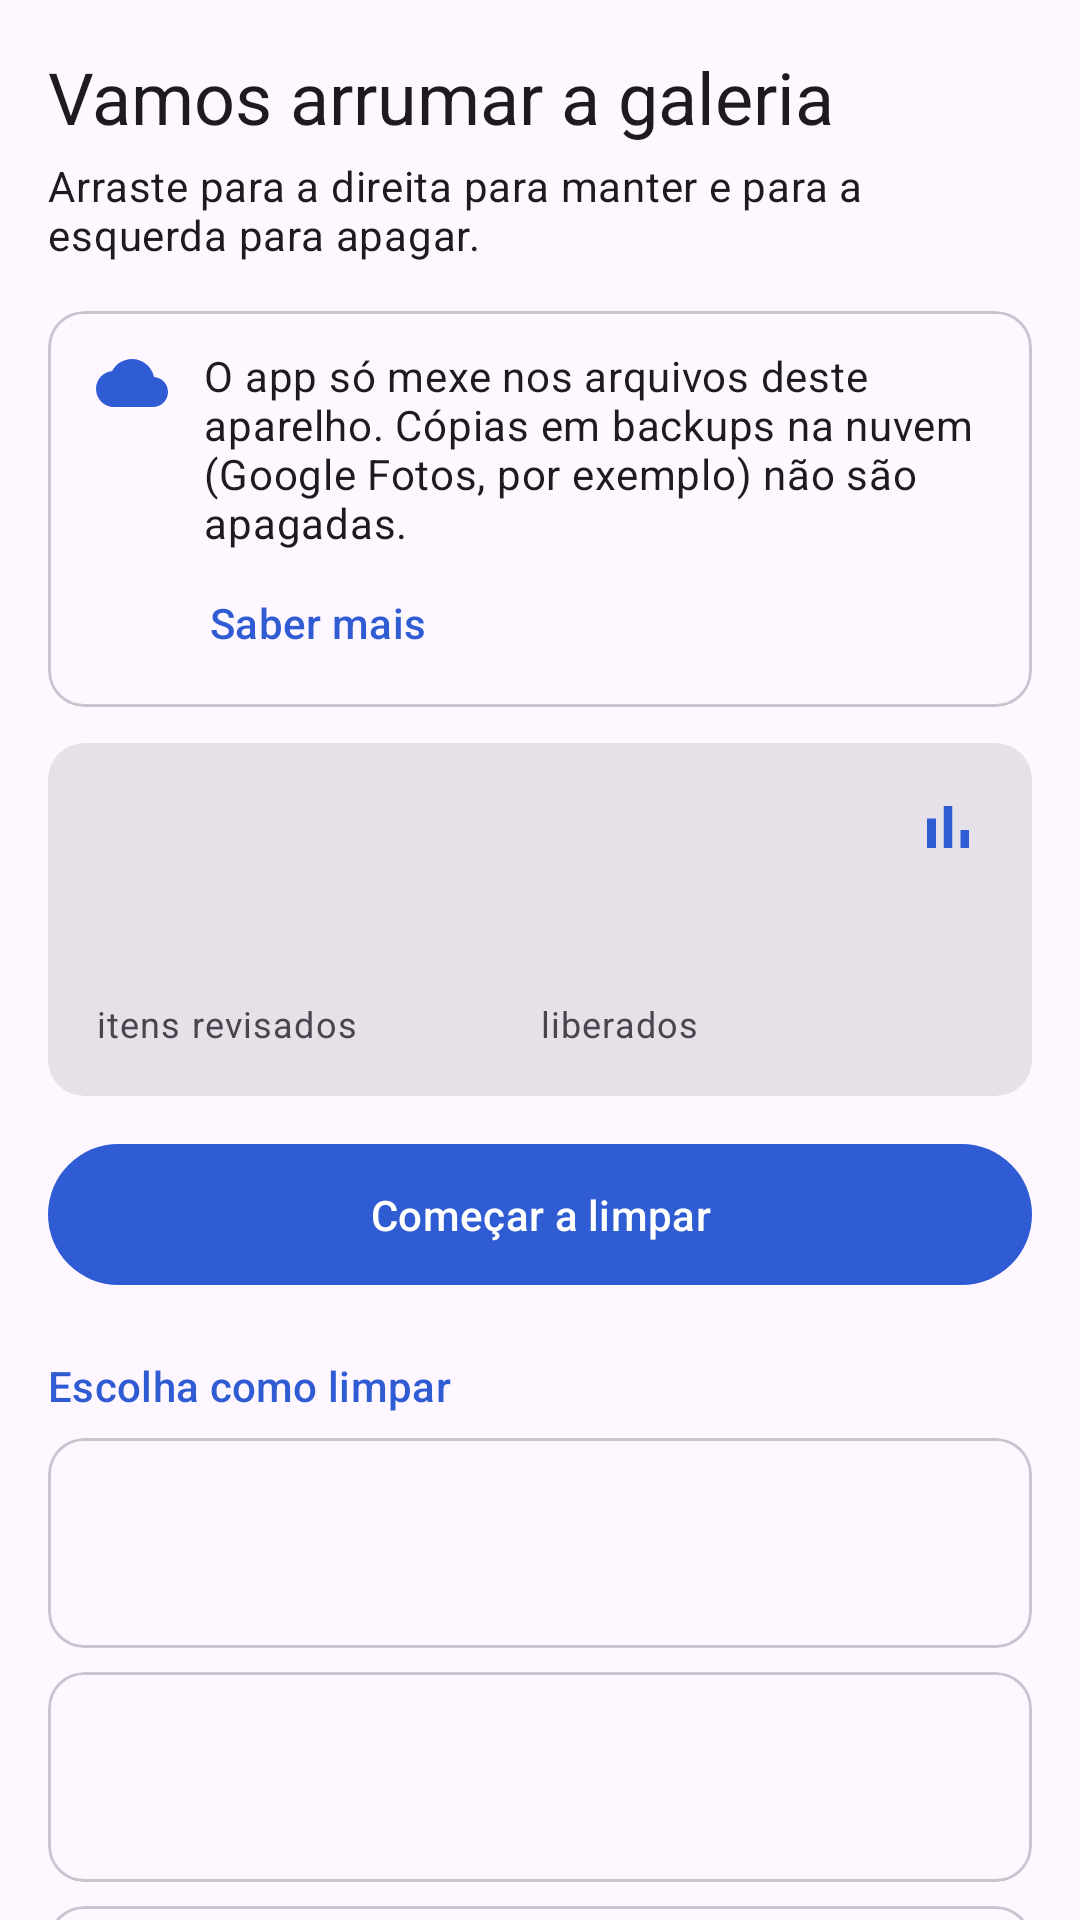

Where to tap for icons on this 1080 × 1920 app screen, as (x,y):
cloud: (132,383)
